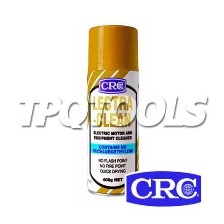aerosol_cans: (83, 21, 141, 197)
